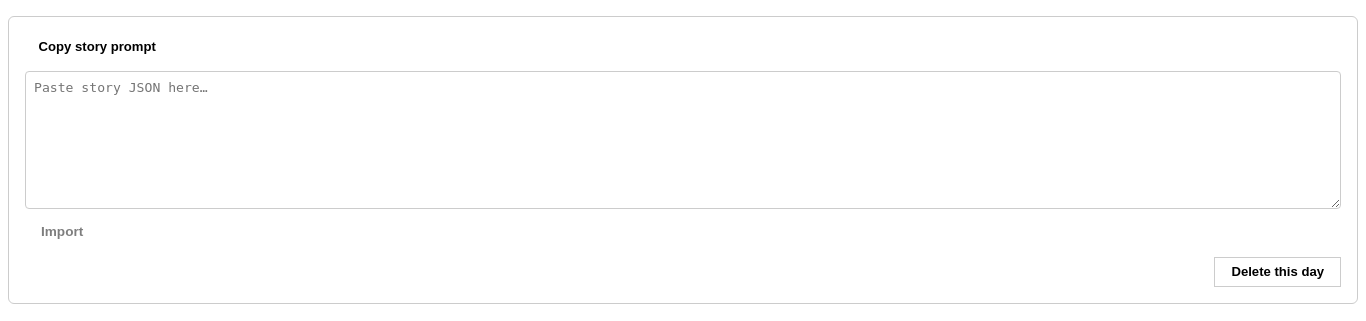
Test case: ManualStoryPanel › shows Copied label after successful copy
Click the button "Copy story prompt": (97, 46) [25,33,170,59]
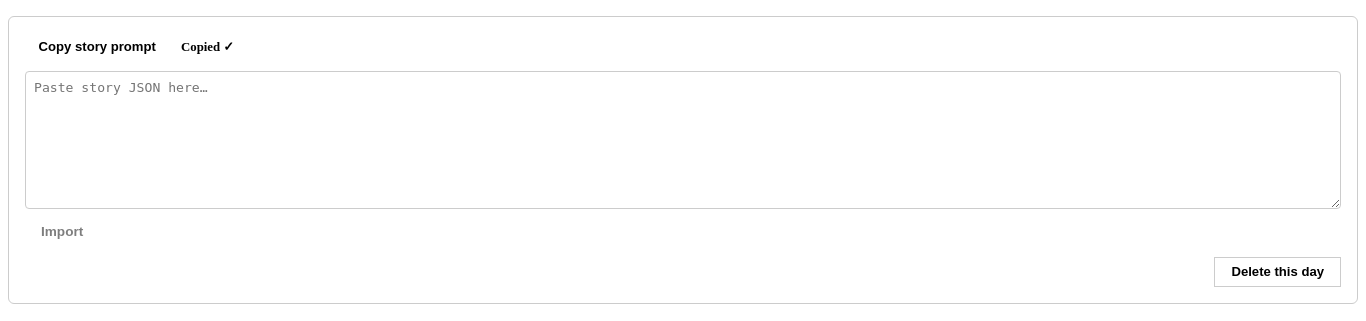
expect the text "Copied ✓" is shown: met, box [181,40,234,54]
